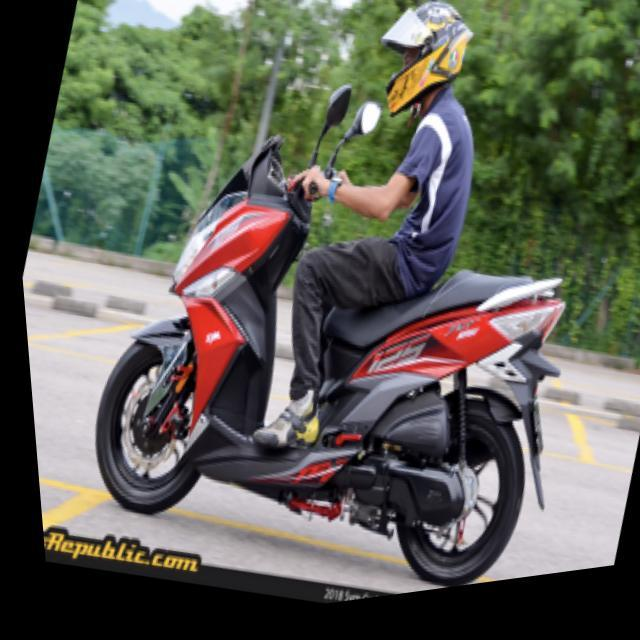Helmet: (375, 0, 483, 127)
